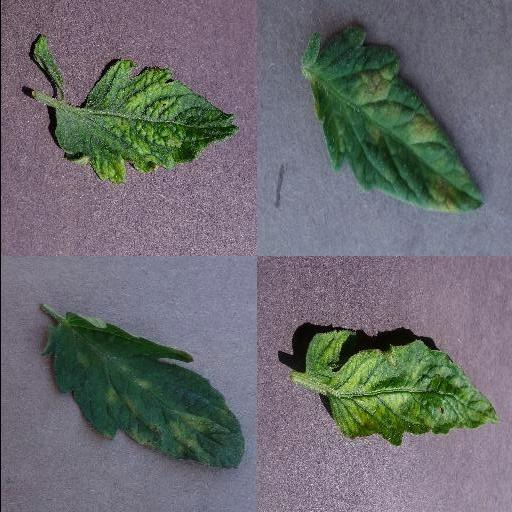Leaf Mold: (302, 28, 484, 214), (39, 313, 245, 469)
Mosaic Virus: (54, 56, 240, 190), (301, 326, 501, 447), (28, 29, 64, 93)
